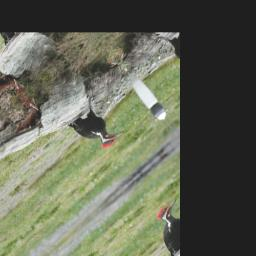Woodpecker: (65, 96, 127, 163)
